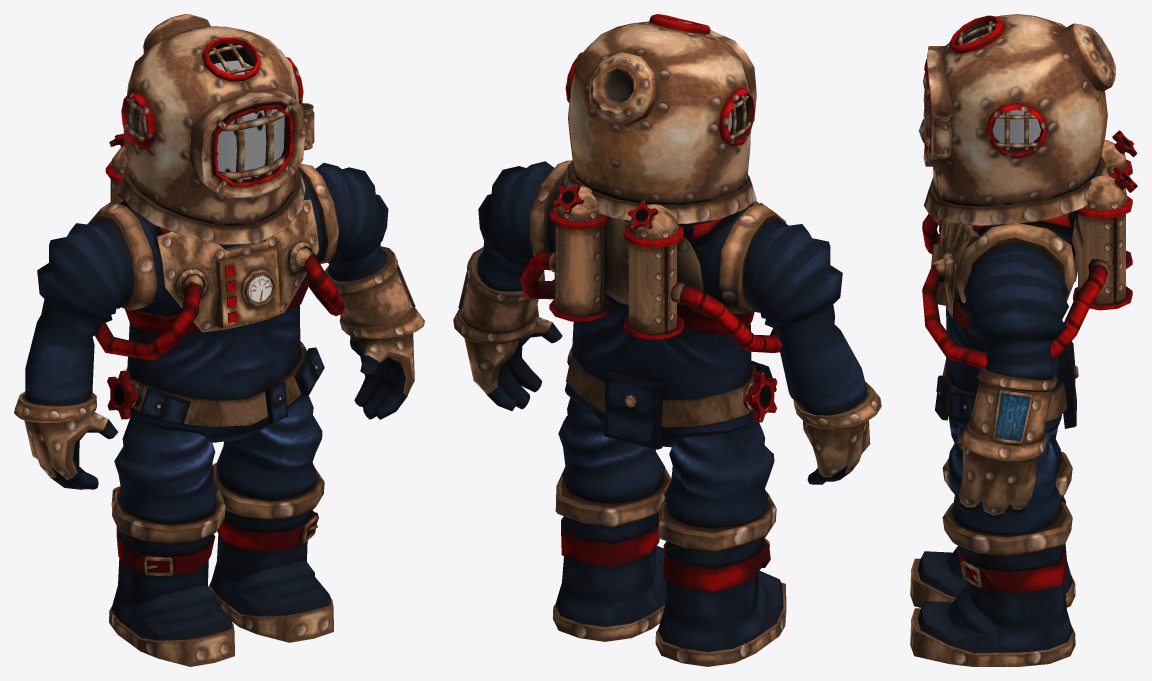
Rendered from bundle_105_deep_sea_explorer.obj.
3 renders of one model, left to right at view 1: azimuth 30°, elevation 25°; view 2: azimuth 150°, elevation 25°; view 3: azimuth 270°, elevation 25°, orthographic. The views are drawn at different scales.
Parts seen in each view (by area): view 1: Bundle105deepseaexplorer5, Handle1, Bundle105deepseaexplorer1, Bundle105deepseaexplorer2, Bundle105deepseaexplorer3, Bundle105deepseaexplorer4, Bundle105deepseaexplorer6; view 2: Bundle105deepseaexplorer5, Handle1, Bundle105deepseaexplorer1, Bundle105deepseaexplorer2, Bundle105deepseaexplorer3, Bundle105deepseaexplorer4; view 3: Handle1, Bundle105deepseaexplorer5, Bundle105deepseaexplorer2, Bundle105deepseaexplorer4, Bundle105deepseaexplorer1, Bundle105deepseaexplorer6.
Boxes of the visible parts, x1=… form: Bundle105deepseaexplorer5: x1=87, y1=133, x2=344, y2=442; Handle1: x1=119, y1=14, x2=314, y2=244; Bundle105deepseaexplorer1: x1=109, y1=418, x2=234, y2=666; Bundle105deepseaexplorer2: x1=208, y1=395, x2=333, y2=642; Bundle105deepseaexplorer3: x1=14, y1=220, x2=134, y2=489; Bundle105deepseaexplorer4: x1=315, y1=163, x2=424, y2=419; Bundle105deepseaexplorer6: x1=143, y1=60, x2=284, y2=179; Bundle105deepseaexplorer5: x1=520, y1=160, x2=786, y2=449; Handle1: x1=563, y1=14, x2=756, y2=223; Bundle105deepseaexplorer1: x1=655, y1=419, x2=786, y2=666; Bundle105deepseaexplorer2: x1=552, y1=398, x2=671, y2=641; Bundle105deepseaexplorer3: x1=743, y1=219, x2=881, y2=484; Bundle105deepseaexplorer4: x1=453, y1=161, x2=562, y2=410; Handle1: x1=919, y1=14, x2=1115, y2=225; Bundle105deepseaexplorer5: x1=922, y1=130, x2=1137, y2=433; Bundle105deepseaexplorer2: x1=910, y1=425, x2=1075, y2=666; Bundle105deepseaexplorer4: x1=954, y1=242, x2=1068, y2=521; Bundle105deepseaexplorer1: x1=910, y1=413, x2=1075, y2=607; Bundle105deepseaexplorer6: x1=992, y1=109, x2=1040, y2=143.
Bounding box in the file's own units: 3.88 × 5.36 × 1.85.
Materials: 2 (2 with a texture image).
